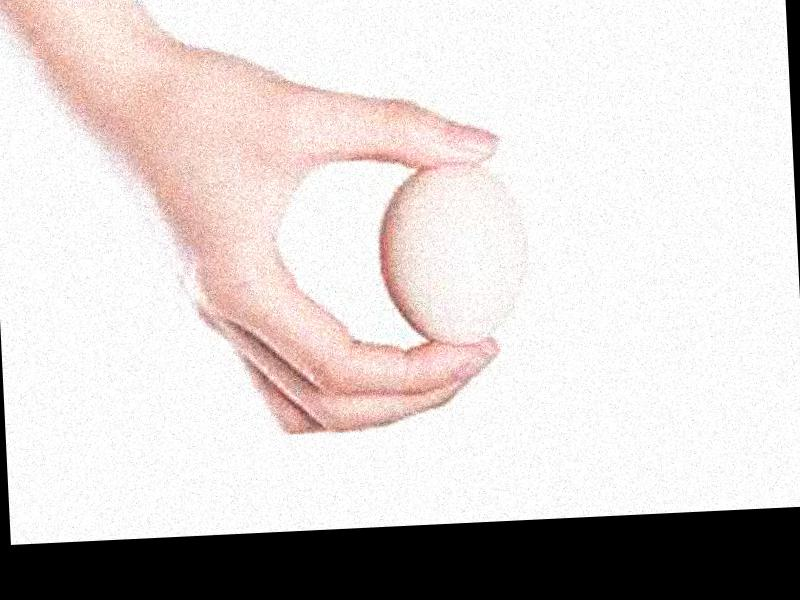Eggs: (375, 158, 531, 350)
